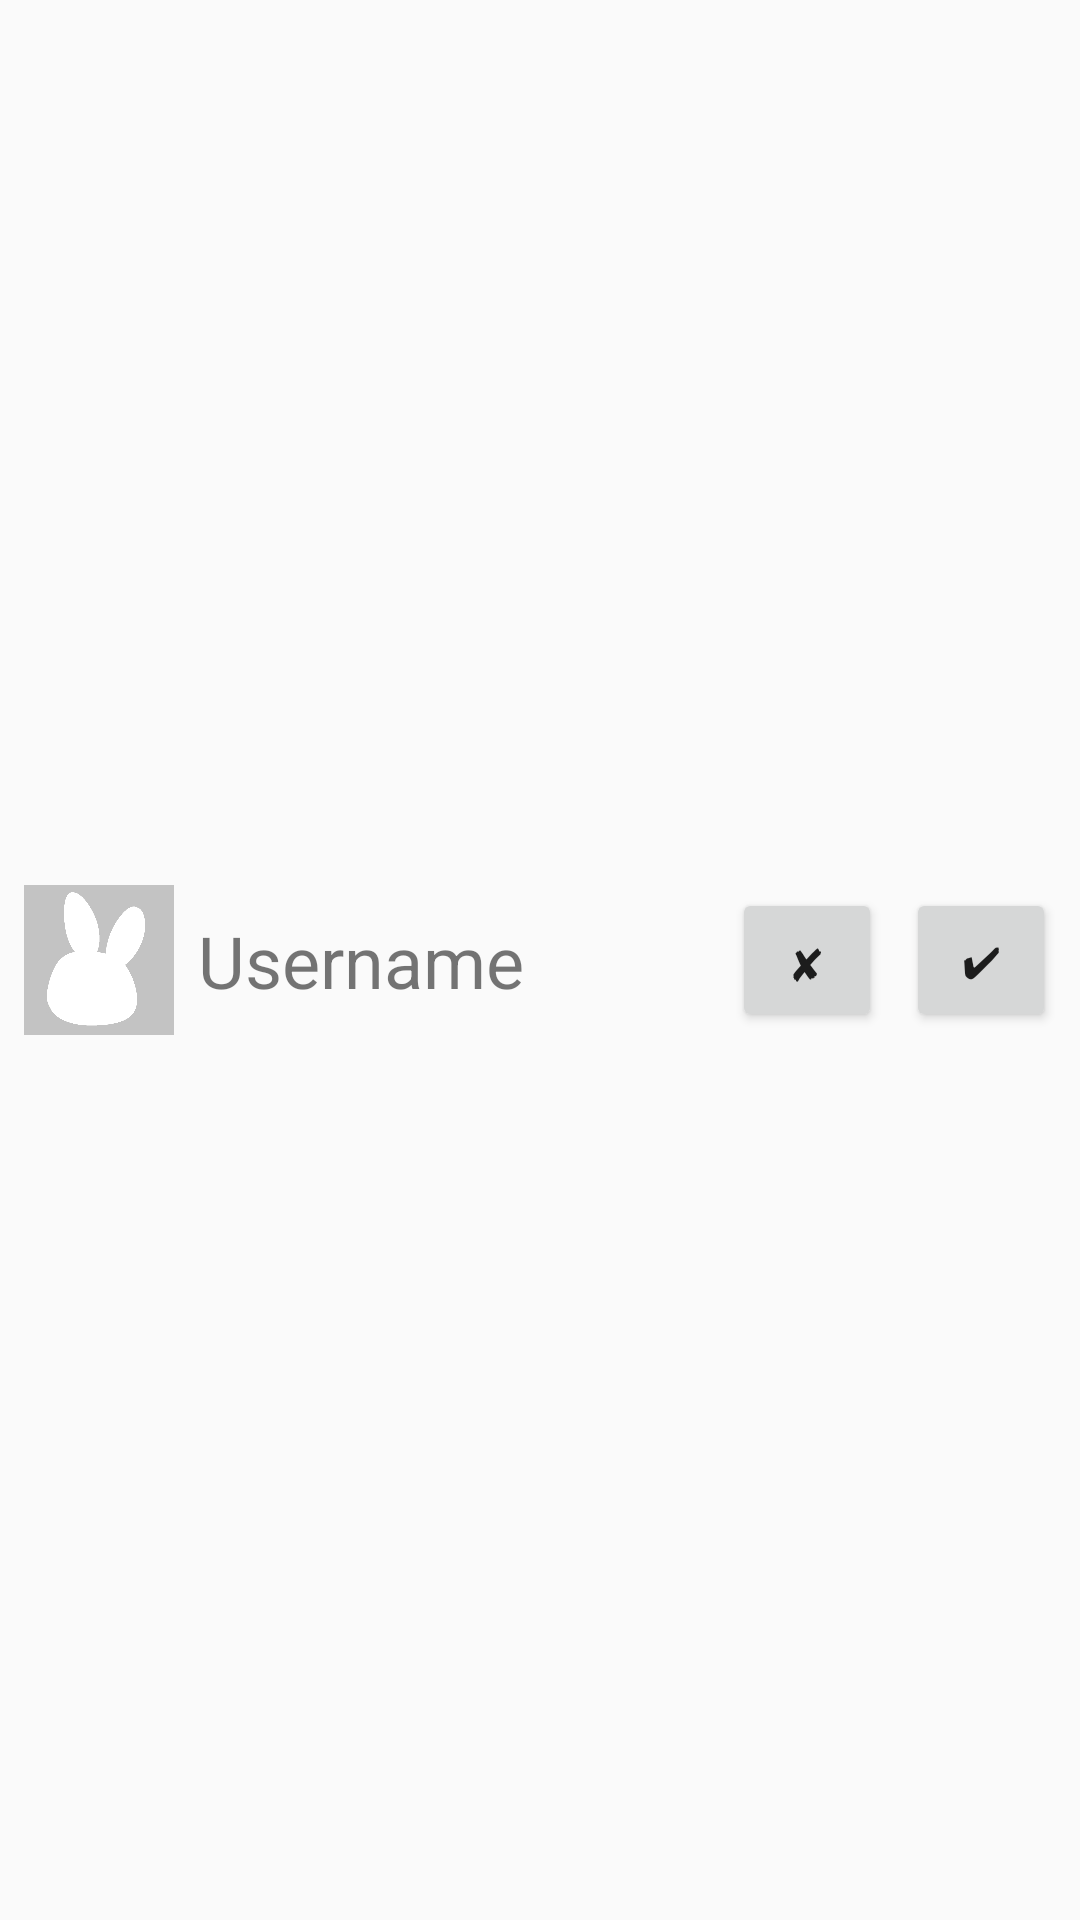

Screen size 1080×1920. Icon name, then its center in pixels as [x,y]:
greyrabbit: [99,960]
